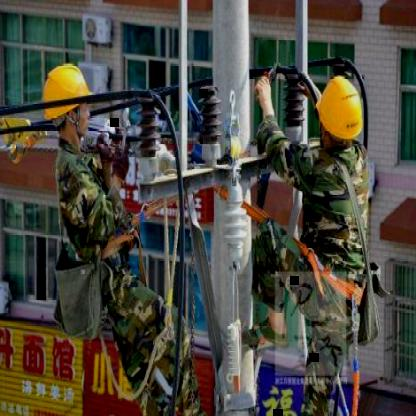helmet: (315, 70, 369, 147), (40, 55, 96, 122)
